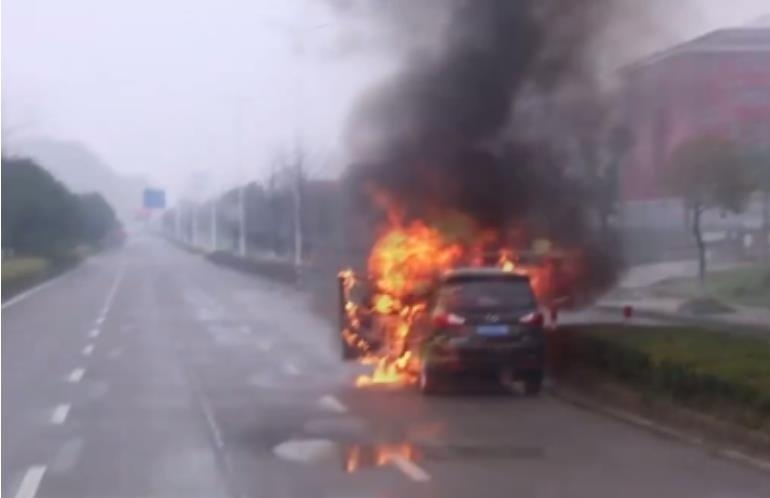fire: (336, 208, 550, 389)
